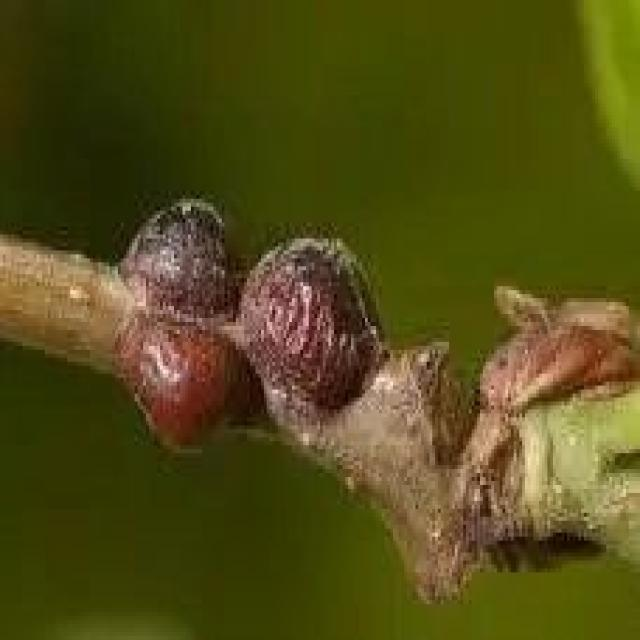Black Scale: (241, 239, 382, 409), (121, 310, 264, 449), (121, 199, 239, 310)
